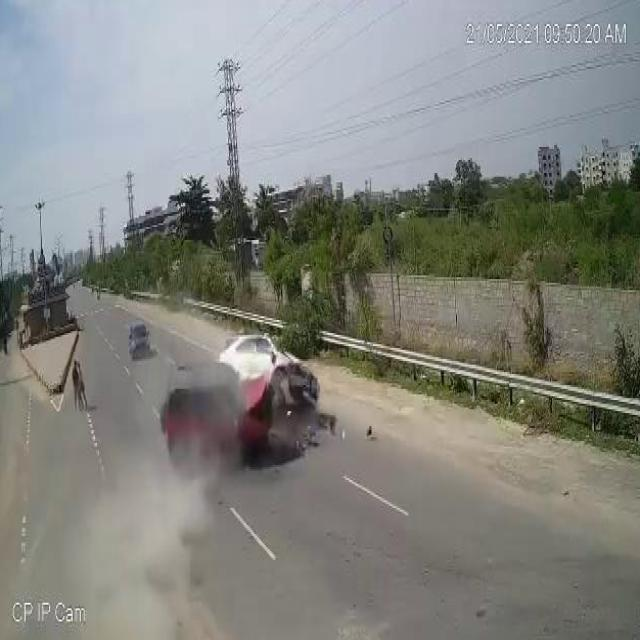accident: (159, 320, 325, 488)
